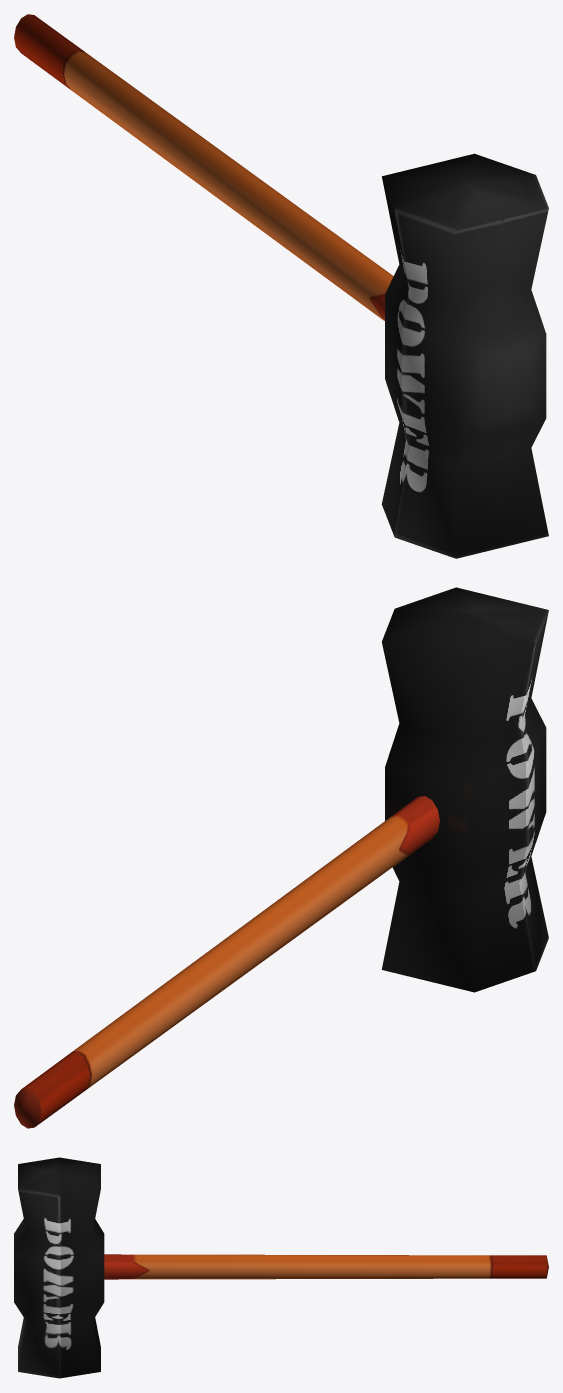
File: W014_0100_Skin.FBX
3 renders of one model, top to bottom at view 1: azimuth 30°, elevation 25°; view 2: azimuth 150°, elevation 25°; view 3: azimuth 270°, elevation 25°, orthographic. The views are drawn at different scales.
Parts seen in each view (by area): view 1: W014; view 2: W014; view 3: W014.
Part boxes in pixels (x1=…): W014: x1=14, y1=14, x2=548, y2=558; W014: x1=14, y1=587, x2=548, y2=1128; W014: x1=14, y1=1157, x2=548, y2=1378.
Size of the model in its own units: 17.24 by 41.16 by 101.
